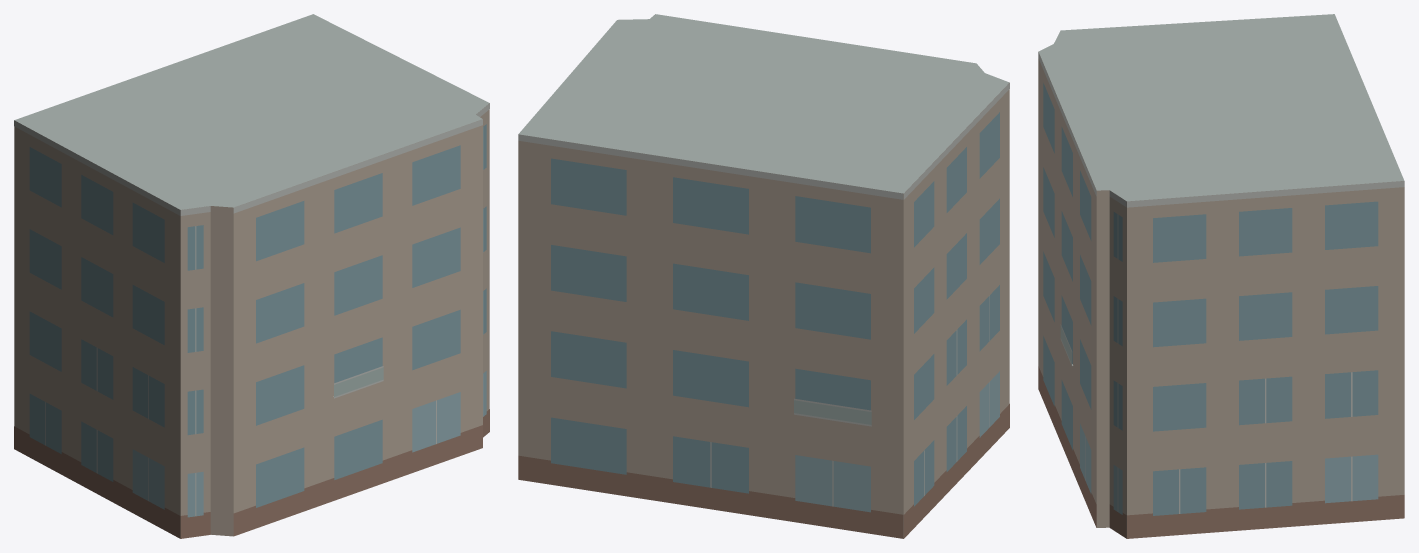
Rendered from survey-upis-32632603.glb.
3 views of the same model, side by side, from view 1: azimuth 30°, elevation 25°; view 2: azimuth 150°, elevation 25°; view 3: azimuth 270°, elevation 25° (orthographic). The views are drawn at different scales.
Parts seen in each view (by area): view 1: survey-upis-32632603.tmp; view 2: survey-upis-32632603.tmp; view 3: survey-upis-32632603.tmp.
Boxes of the visible parts, x1,y1,x2,y2 form: survey-upis-32632603.tmp: (14,14,489,538); survey-upis-32632603.tmp: (518,14,1009,538); survey-upis-32632603.tmp: (1038,14,1404,538).
Bounding box in the file's own units: 15.73 × 13.2 × 12.99.
